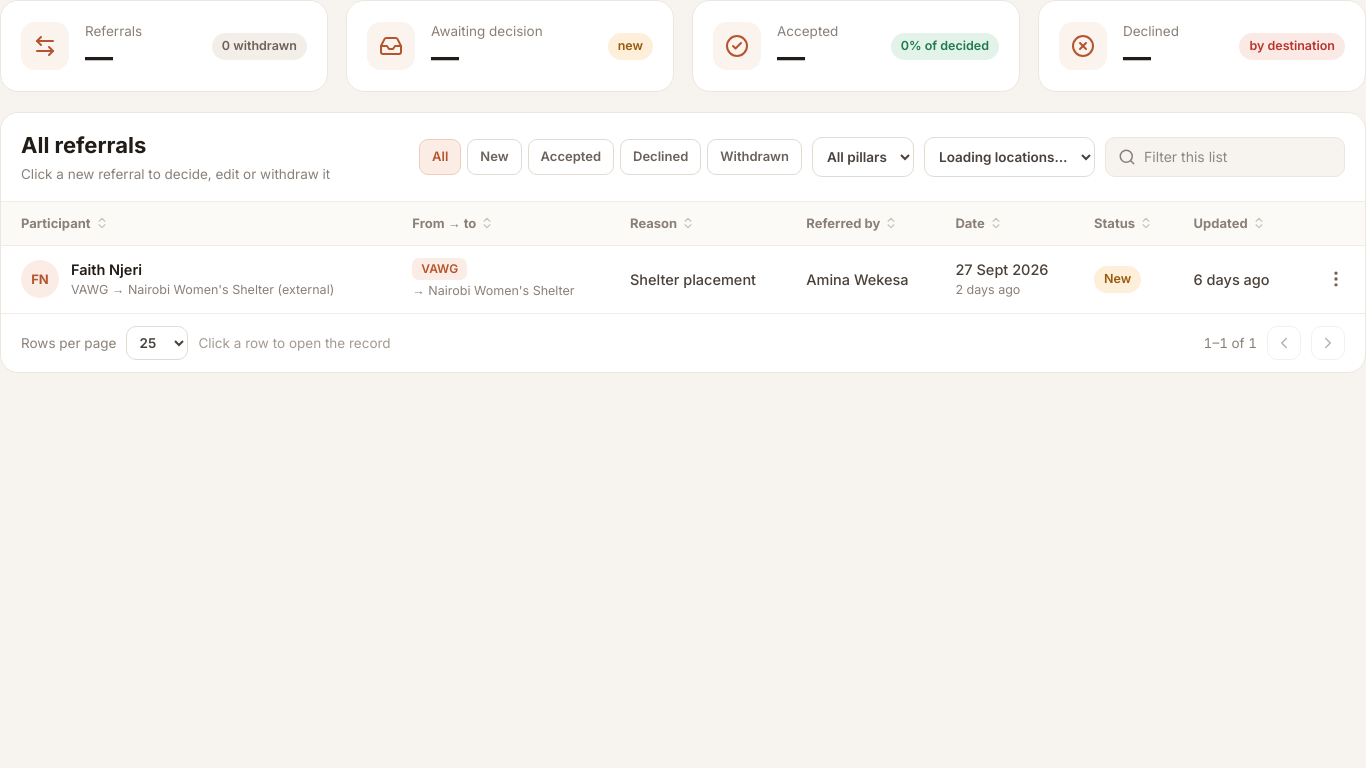
it: shows the external destination name in both the queue and decision dialog
The width and height of the screenshot is (1366, 768).
Expected: the text "Nairobi Women's Shelter" is shown, [428,283,575,298]
Step 1. Click the row that starts with "Faith Njeri" → (683, 279), box [1,246,1365,313]
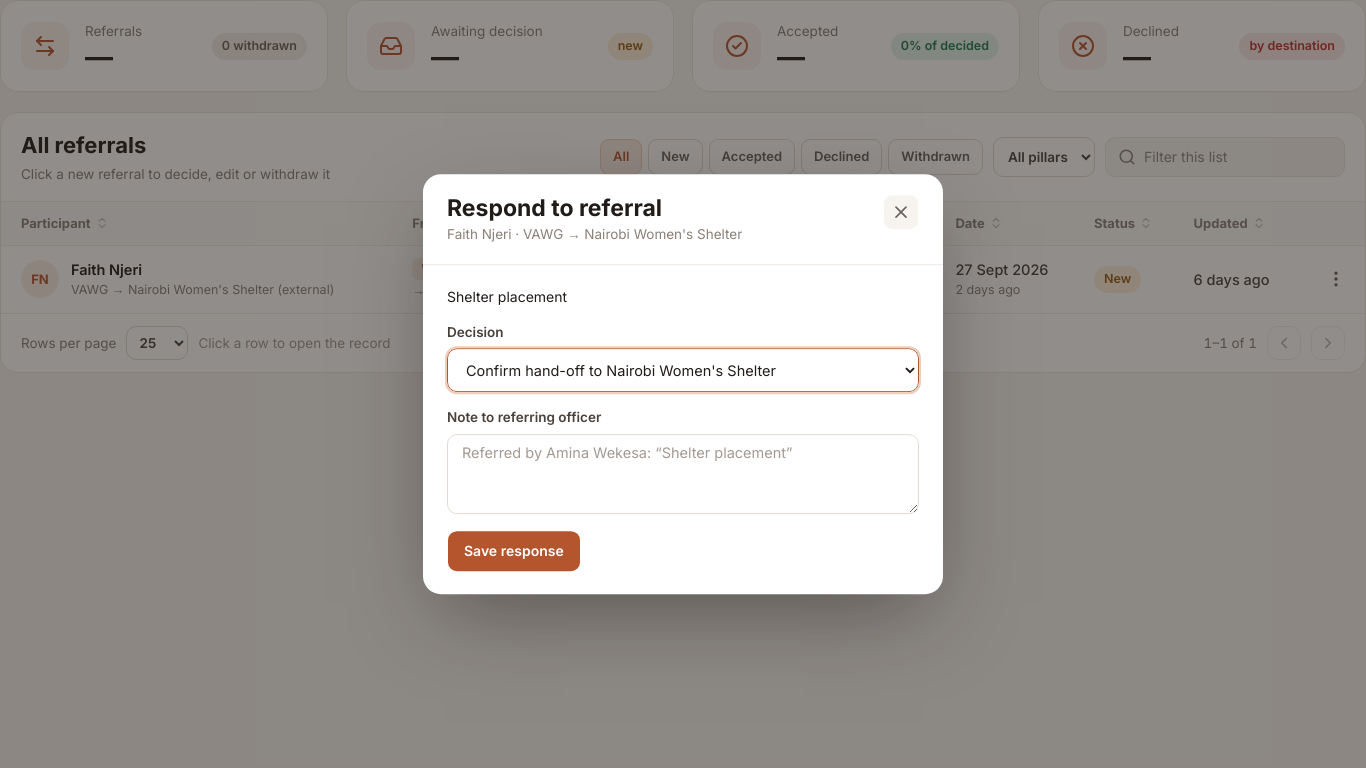
Result: the text "Faith Njeri · VAWG → Nairobi Women's Shelter" is shown at [447,226,742,242]
